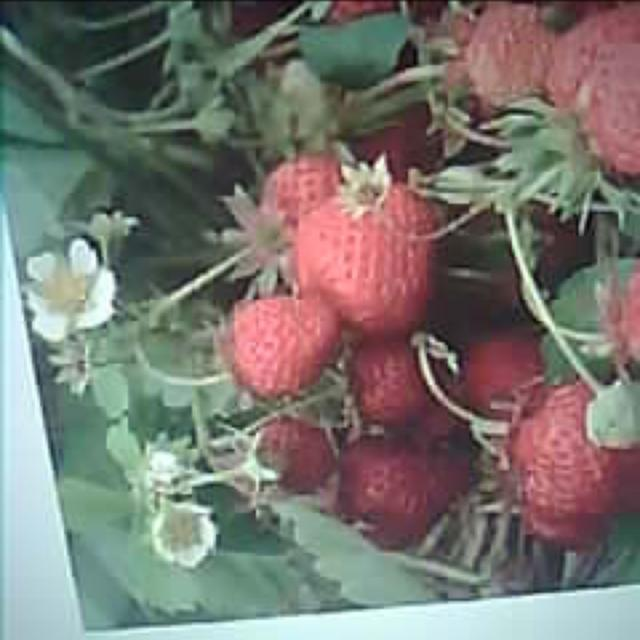ripe: (293, 184, 435, 330)
